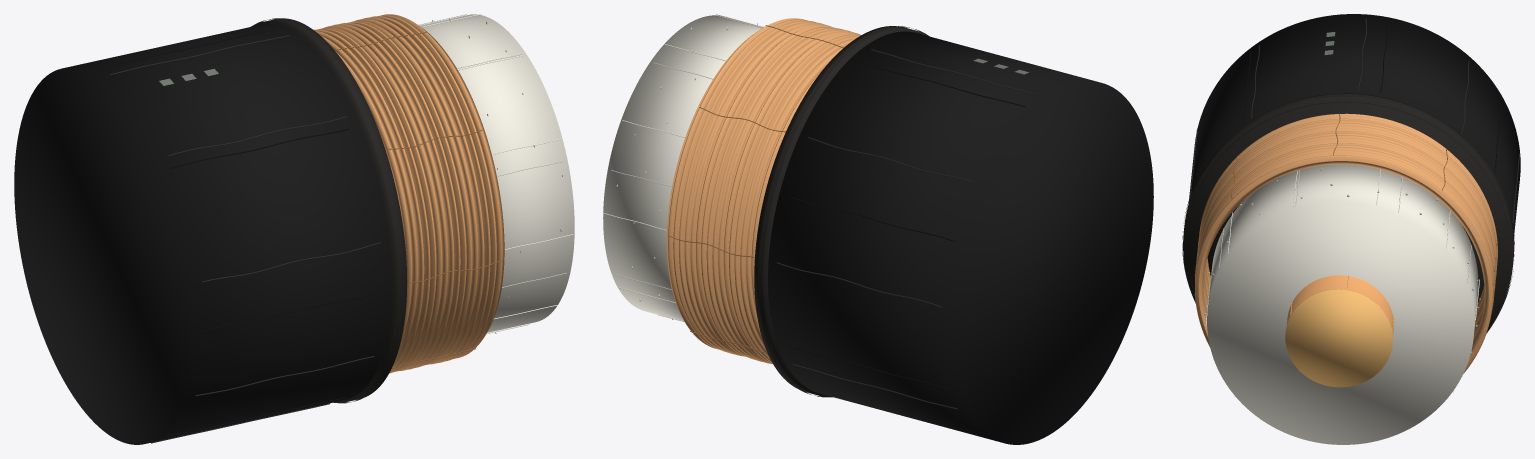
Rendered from rf-ldf5-macro.glb.
3 views of the same model, side by side, from view 1: azimuth 30°, elevation 25°; view 2: azimuth 150°, elevation 25°; view 3: azimuth 270°, elevation 25° (orthographic). The views are drawn at different scales.
Visible parts, largest first — view 1: macro hardline jacket body, annular corrugated solid shield, macro foam dielectric exposed core, hardline jacket cut wall, rounded jacket cut lip; view 2: macro hardline jacket body, annular corrugated solid shield, macro foam dielectric exposed core, hardline jacket cut wall, rounded jacket cut lip; view 3: macro foam dielectric exposed core, macro hardline jacket body, annular corrugated solid shield, hardline jacket cut wall, polished conductor cut face glow, polished solid center conductor, rounded jacket cut lip, inner jacket shadow bevel.
Boxes of the visible parts, x1=… form: macro hardline jacket body: x1=14, y1=23, x2=392, y2=444; annular corrugated solid shield: x1=313, y1=14, x2=504, y2=373; macro foam dielectric exposed core: x1=419, y1=14, x2=574, y2=332; hardline jacket cut wall: x1=251, y1=18, x2=407, y2=402; rounded jacket cut lip: x1=256, y1=18, x2=402, y2=403; macro hardline jacket body: x1=768, y1=31, x2=1153, y2=444; annular corrugated solid shield: x1=666, y1=18, x2=861, y2=363; macro foam dielectric exposed core: x1=603, y1=15, x2=762, y2=321; hardline jacket cut wall: x1=754, y1=26, x2=929, y2=397; rounded jacket cut lip: x1=758, y1=26, x2=926, y2=397; macro foam dielectric exposed core: x1=1207, y1=164, x2=1478, y2=444; macro hardline jacket body: x1=1188, y1=14, x2=1520, y2=235; annular corrugated solid shield: x1=1195, y1=113, x2=1497, y2=373; hardline jacket cut wall: x1=1183, y1=93, x2=1514, y2=333; polished conductor cut face glow: x1=1285, y1=289, x2=1392, y2=387; polished solid center conductor: x1=1287, y1=275, x2=1393, y2=334; rounded jacket cut lip: x1=1182, y1=94, x2=1514, y2=320; inner jacket shadow bevel: x1=1186, y1=102, x2=1510, y2=323.
Bounding box in the file's own units: 6.57 × 5.13 × 5.22.
